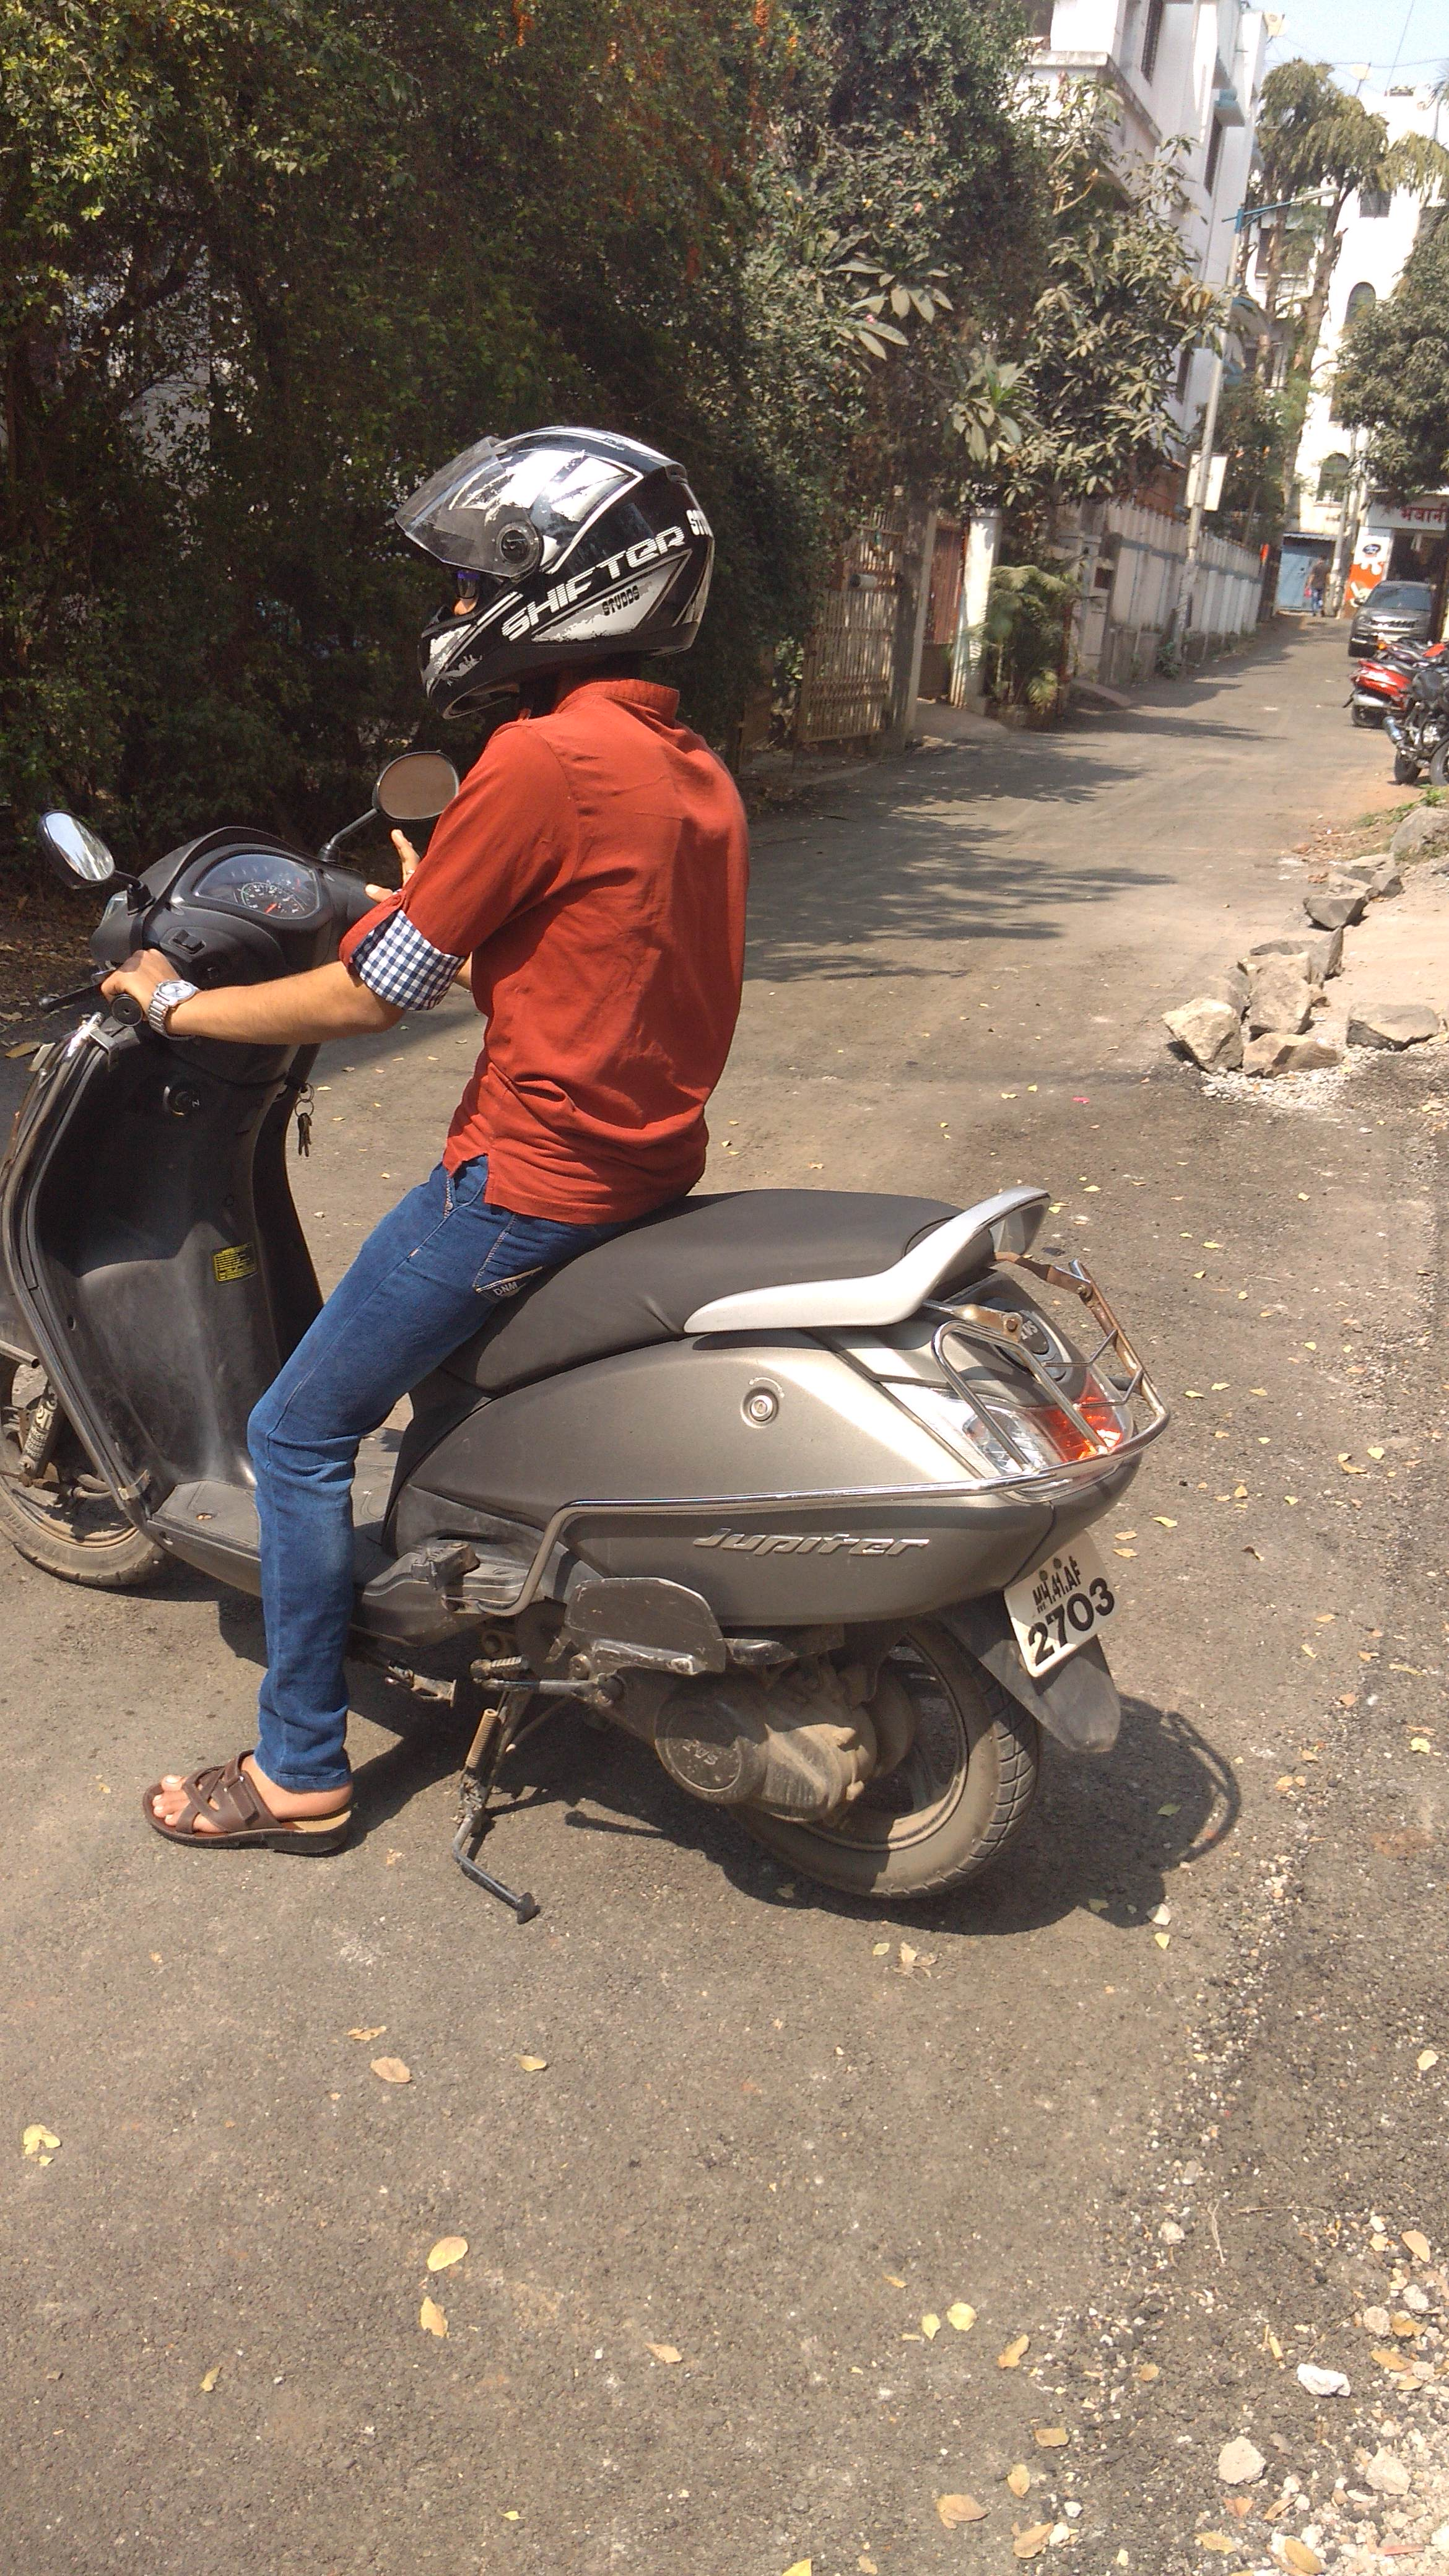helmet: (280, 405, 810, 1309)
